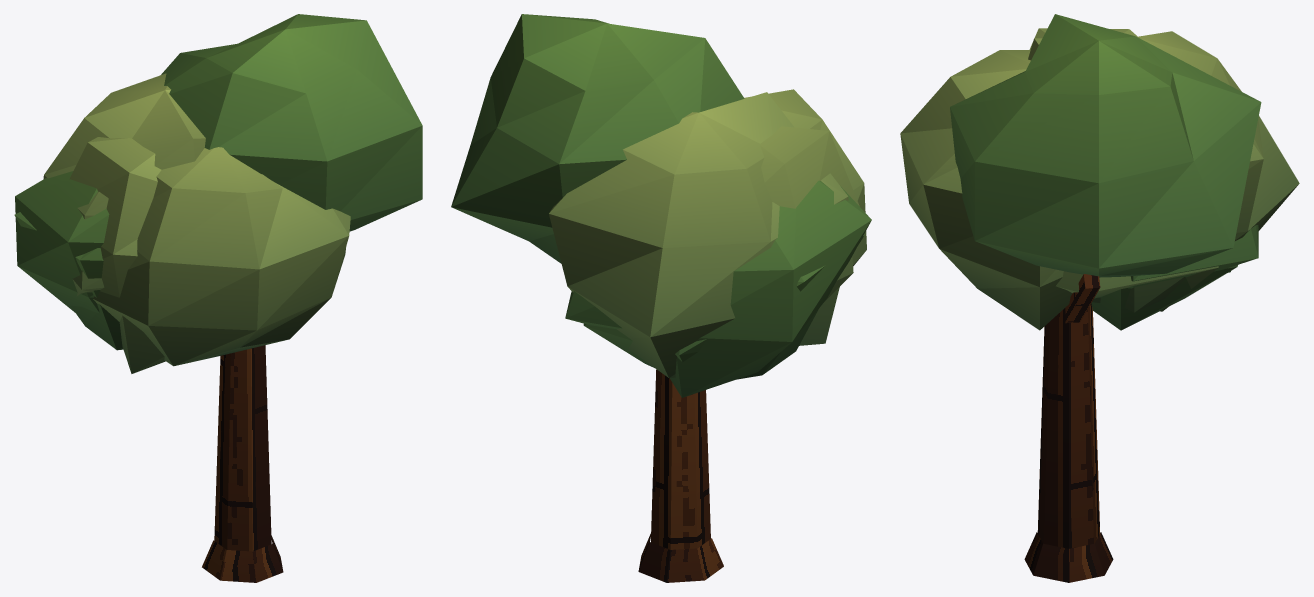
Rendered from apple_2_lowpoly.glb.
The picture shows the model from 3 angles, left to right: view 1: azimuth 30°, elevation 25°; view 2: azimuth 150°, elevation 25°; view 3: azimuth 270°, elevation 25°; orthographic projection. The views are drawn at different scales.
Visible parts, largest first — view 1: apple_2_lowpoly; view 2: apple_2_lowpoly; view 3: apple_2_lowpoly.
Part boxes in pixels (<box>): apple_2_lowpoly: <box>14,14,422,582</box>; apple_2_lowpoly: <box>451,14,871,582</box>; apple_2_lowpoly: <box>900,14,1299,582</box>.
Size of the model in its own units: 3.58 by 4.81 by 3.15.
Materials: 2 (1 with a texture image).
